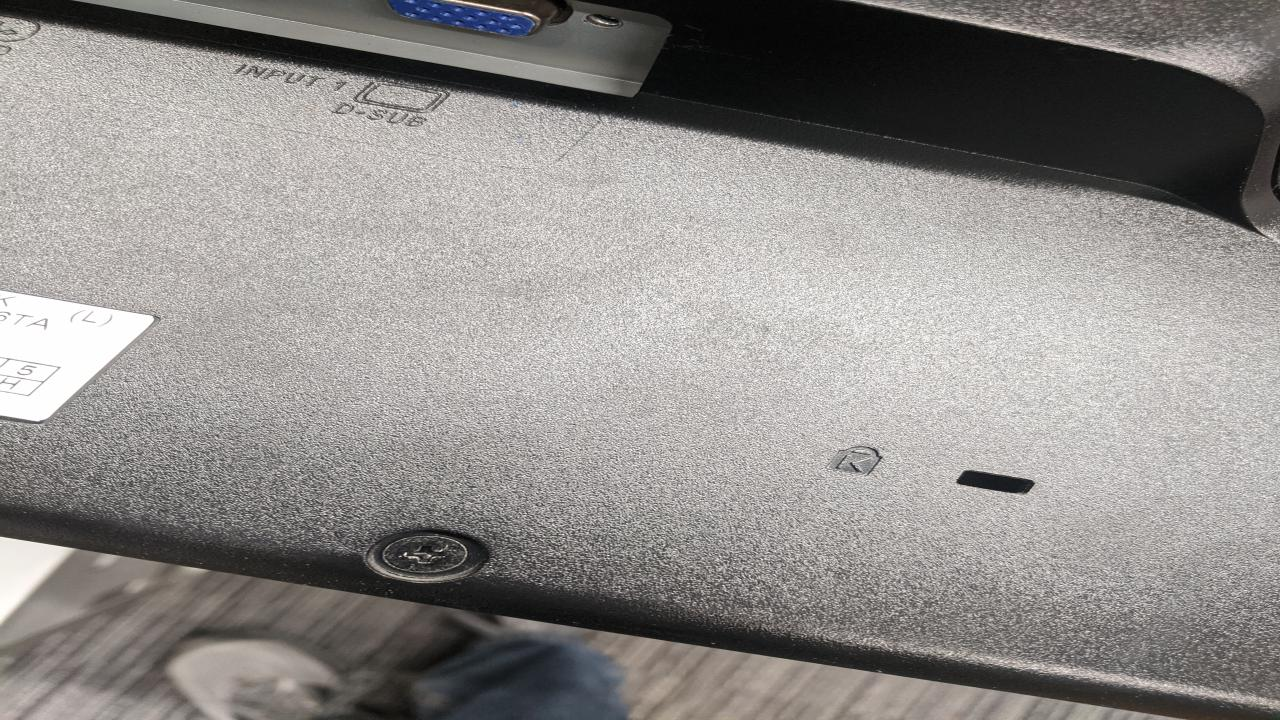CRS: (376, 533, 483, 575)
